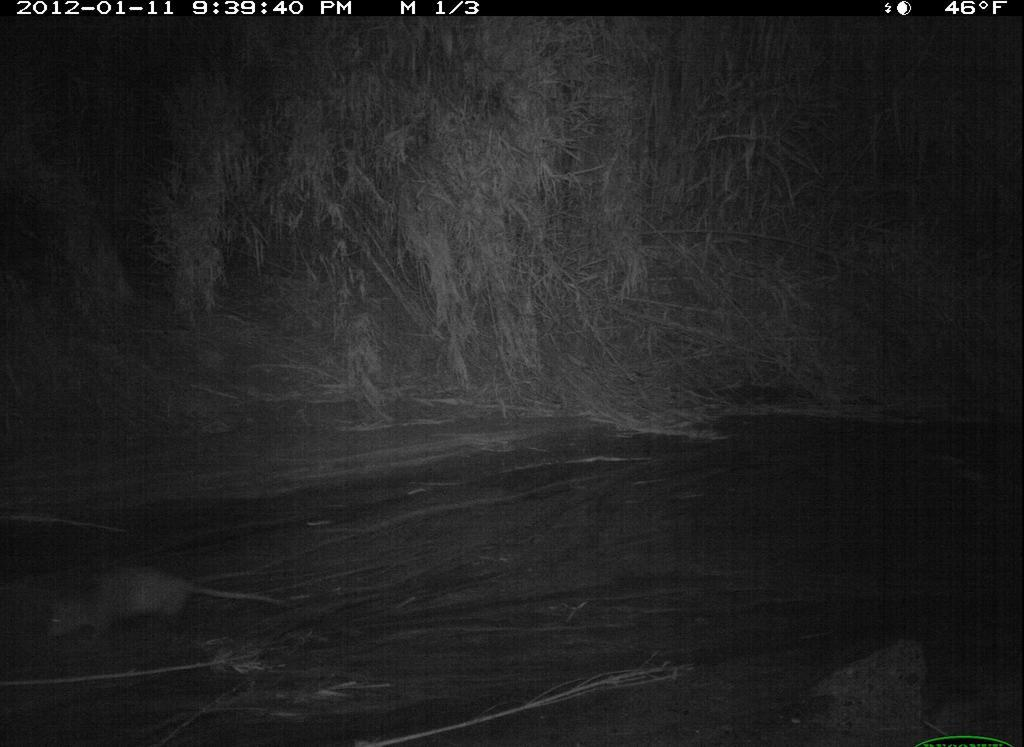opossum: (38, 560, 301, 656)
